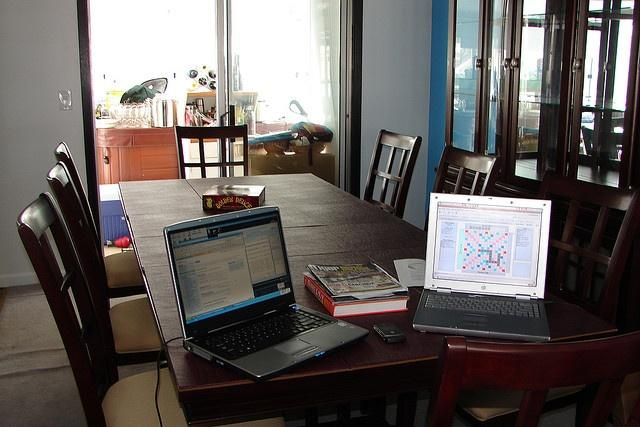Kursi: (17, 190, 186, 426), (47, 161, 165, 367)
Meja: (116, 171, 618, 426)
